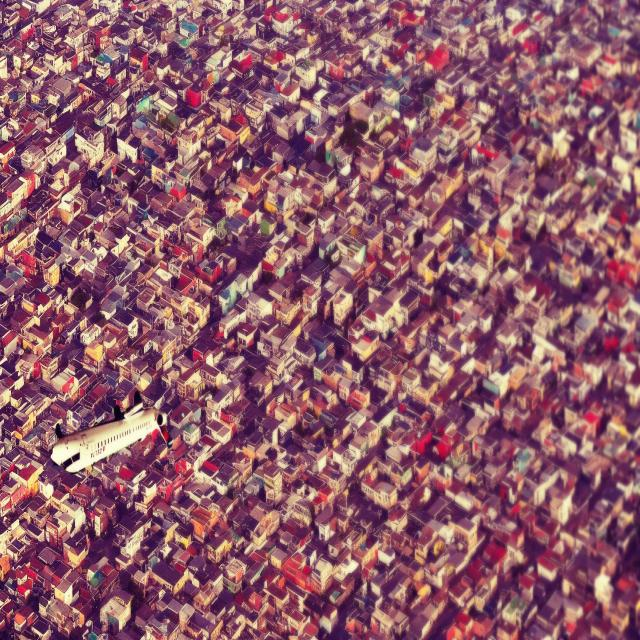airplane: (50, 386, 174, 476)
